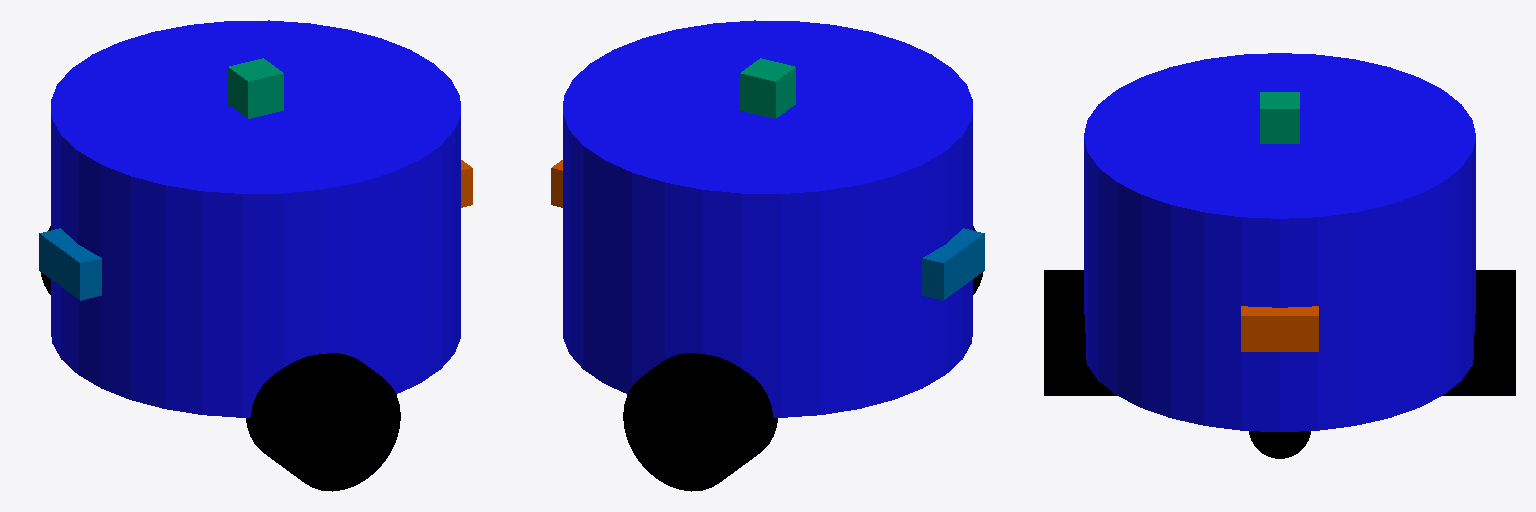
robot.urdf — fishbot:
<?xml version="1.0"?>
<robot name="fishbot">


  <!-- Robot Footprint -->
  <link name="base_footprint"/>

  <joint name="base_joint" type="fixed">
    <parent link="base_footprint"/>
    <child link="base_link"/>
    <origin xyz="-1.4 5.65 0.0" rpy="0 0 0"/>
  </joint>


  <!-- base link -->
  <link name="base_link">
  	<visual>
      <origin xyz="0 0 0.0" rpy="0 0 0"/>
      <geometry>
		<cylinder length="0.12" radius="0.10"/>
      </geometry>
      <material name="blue">
      	<color rgba="0.1 0.1 1.0 0.5" /> 
      </material>
    </visual>
    <collision>
      <origin xyz="0 0 0.0" rpy="0 0 0"/>
      <geometry>
		<cylinder length="0.12" radius="0.10"/>
      </geometry>
      <material name="blue">
      	<color rgba="0.1 0.1 1.0 0.5" /> 
      </material>
    </collision>
    <inertial>
      <mass value="0.2"/>
      <inertia ixx="0.0122666" ixy="0" ixz="0" iyy="0.0122666" iyz="0" izz="0.02"/>
    </inertial>
    <gazebo>
       <gravity>0</gravity>
    </gazebo>
  </link>
    
  <!-- laser link -->
  <!-- <link name="laser_link">
    <visual>
      <origin xyz="0 0 0" rpy="0 0 0"/>
      <geometry>
        <cylinder length="0.02" radius="0.02"/>
      </geometry>
      <material name="black">
        <color rgba="0.0 0.0 0.0 0.5" /> 
      </material>
    </visual>
    <collision>
      <origin xyz="0 0 0" rpy="0 0 0"/>
      <geometry>
        <cylinder length="0.02" radius="0.02"/>
      </geometry>
      <material name="black">
        <color rgba="0.0 0.0 0.0 0.5" /> 
      </material>
    </collision>
    <inertial>
    <mass value="0.1"/>
      <inertia ixx="0.000190416666667" ixy="0" ixz="0" iyy="0.0001904" iyz="0" izz="0.00036"/>
    </inertial>
  </link> -->
  
  <!-- laser joint -->
  <!-- <joint name="laser_joint" type="fixed">
      <parent link="base_link" />
      <child link="laser_link" />
      <origin xyz="0 0 0.075" />
  </joint> -->

  <link name="imu_link">
  	<visual>
      <origin xyz="0 0 0.0" rpy="0 0 0"/>
      <geometry>
		    <box size="0.02 0.02 0.02"/>
      </geometry>
    </visual>
    <collision>
      <origin xyz="0 0 0.0" rpy="0 0 0"/>
      <geometry>
		    <box size="0.02 0.02 0.02"/>
      </geometry>
    </collision>
    <inertial>
      <mass value="0.1"/>
        <inertia ixx="0.000190416666667" ixy="0" ixz="0" iyy="0.0001904" iyz="0" izz="0.00036"/>
      </inertial>
    <gazebo>
       <gravity>0</gravity>
    </gazebo>
  </link>

  <!-- imu joint -->
  <joint name="imu_joint" type="fixed">
      <parent link="base_link" />
      <child link="imu_link" />
      <origin xyz="0 0 0.07" />
  </joint>


  <link name="left_wheel_link">
      <visual>
        <origin xyz="0 0 0" rpy="1.57079 0 0"/>
        <geometry>
          <cylinder length="0.04" radius="0.032"/>
        </geometry>
          <material name="black">
            <color rgba="0.0 0.0 0.0 0.5" /> 
          </material>
      </visual>
      <collision>
        <origin xyz="0 0 0" rpy="1.57079 0 0"/>
        <geometry>
          <cylinder length="0.04" radius="0.032"/>
        </geometry>
          <material name="black">
            <color rgba="0.0 0.0 0.0 0.5" /> 
          </material>
      </collision>
      <inertial>
        <mass value="0.2"/>
          <inertia ixx="0.000190416666667" ixy="0" ixz="0" iyy="0.0001904" iyz="0" izz="0.00036"/>
      </inertial>
      <gazebo>
       <gravity>0</gravity>
      </gazebo>
  </link>

  <link name="camera_link">
  	<visual>
      <origin xyz="0 0 0.0" rpy="0 0 0"/>
      <geometry>
		    <box size="0.02 0.04 0.02"/>
      </geometry>
    </visual>
    <collision>
      <origin xyz="0 0 0.0" rpy="0 0 0"/>
      <geometry>
		    <box size="0.02 0.04 0.02"/>
      </geometry>
    </collision>
    <inertial>
      <mass value="0.1"/>
        <inertia ixx="0.000190416666667" ixy="0" ixz="0" iyy="0.0001904" iyz="0" izz="0.00036"/>
    </inertial>
    <gazebo>
       <gravity>0</gravity>
    </gazebo>
  </link>

  <!-- imu joint -->
  <joint name="camera_joint" type="fixed">
      <parent link="base_link" />
      <child link="camera_link" />
      <origin xyz="-0.10 0 0" rpy="0 0 3.14159"/>
  </joint>

  <link name="camera_depth_link">
  	<visual>
      <origin xyz="0 0 0.0" rpy="0 0 0"/>
      <geometry>
		    <box size="0.02 0.04 0.02"/>
      </geometry>
    </visual>
    <collision>
      <origin xyz="0 0 0.0" rpy="0 0 0"/>
      <geometry>
		    <box size="0.02 0.04 0.02"/>
      </geometry>
    </collision>
    <inertial>
      <mass value="0.1"/>
        <inertia ixx="0.000190416666667" ixy="0" ixz="0" iyy="0.0001904" iyz="0" izz="0.00036"/>
    </inertial>
    <gazebo>
       <gravity>0</gravity>
    </gazebo>
  </link>

  <joint name="camera_depth_joint" type="fixed">
      <parent link="base_link" />
      <child link="camera_depth_link" />
      <origin xyz="0.10 0 0" rpy="0 0 0"/>
  </joint>
    
  <link name="right_wheel_link">
      <visual>
        <origin xyz="0 0 0" rpy="1.57079 0 0"/>
        <geometry>
          <cylinder length="0.04" radius="0.032"/>
        </geometry>
          <material name="black">
            <color rgba="0.0 0.0 0.0 0.5" /> 
          </material>
      </visual>
      <collision>
        <origin xyz="0 0 0" rpy="1.57079 0 0"/>
        <geometry>
          <cylinder length="0.04" radius="0.032"/>
        </geometry>
          <material name="black">
            <color rgba="0.0 0.0 0.0 0.5" /> 
          </material>
      </collision>
      <inertial>
      <mass value="0.2"/>
      <inertia ixx="0.000190416666667" ixy="0" ixz="0" iyy="0.0001904" iyz="0" izz="0.00036"/>
     </inertial>
     <gazebo>
       <gravity>0</gravity>
     </gazebo>
  </link>
    
  <joint name="left_wheel_joint" type="continuous">
      <parent link="base_link" />
      <child link="left_wheel_link" />
      <origin xyz="-0.02 0.10 -0.06" />
      <axis xyz="0 1 0" />
  </joint>

  <joint name="right_wheel_joint" type="continuous">
      <parent link="base_link" />
      <child link="right_wheel_link" />
      <origin xyz="-0.02 -0.10 -0.06" />
      <axis xyz="0 1 0" />
  </joint>

  <link name="caster_link">
      <visual>
        <origin xyz="0 0 0" rpy="1.57079 0 0"/>
        <geometry>
            <sphere radius="0.016"/>
        </geometry>
          <material name="black">
            <color rgba="0.0 0.0 0.0 0.5" /> 
          </material>
      </visual>
      <collision>
        <origin xyz="0 0 0" rpy="1.57079 0 0"/>
        <geometry>
            <sphere radius="0.016"/>
        </geometry>
          <material name="black">
            <color rgba="0.0 0.0 0.0 0.5" /> 
          </material>
      </collision>
      <inertial>
      <mass value="0.02"/>
      <inertia ixx="0.000190416666667" ixy="0" ixz="0" iyy="0.0001904" iyz="0" izz="0.00036"/>
    </inertial>
    <gazebo>
       <gravity>0</gravity>
    </gazebo>
  </link>
    
  <joint name="caster_joint" type="fixed">
      <parent link="base_link" />
      <child link="caster_link" />
      <origin xyz="0.06 0.0 -0.076" />
      <axis xyz="0 1 0" />
  </joint>



    <gazebo reference="caster_link">
      <material>Gazebo/Black</material>
    </gazebo>
    <gazebo reference="base_link">
      <material>Gazebo/Yellow</material>
    </gazebo>
    <gazebo reference="left_wheel_link">
      <material>Gazebo/Red</material>
    </gazebo>
    <gazebo reference="right_wheel_link">
      <material>Gazebo/Red</material>
    </gazebo>

    <gazebo reference="caster_link">
      <mu1 value="0.0"/>
      <mu2 value="0.0"/>
      <kp value="1000000.0" />
      <kd value="10.0" />
      <!-- <fdir1 value="0 0 1"/> -->
    </gazebo>


    <!-- 下面的是二轮差速底盘的代码 -->
    
    <!-- <gazebo>
      <plugin name='diff_drive' filename='libgazebo_ros_diff_drive.so'>
          <ros>
            <namespace>/</namespace>
            <remapping>cmd_vel:=cmd_vel</remapping>
            <remapping>odom:=odom</remapping>
          </ros>
          <update_rate>30</update_rate>
          
          <left_joint>left_wheel_joint</left_joint>
          <right_joint>right_wheel_joint</right_joint>
          
          <wheel_separation>0.2</wheel_separation>
          <wheel_diameter>0.065</wheel_diameter>
          
          <max_wheel_torque>20</max_wheel_torque>
          <max_wheel_acceleration>1.0</max_wheel_acceleration>
          
          <publish_odom>true</publish_odom>
          <publish_odom_tf>true</publish_odom_tf>
          <publish_wheel_tf>true</publish_wheel_tf>
          <odometry_frame>odom</odometry_frame>
          <robot_base_frame>base_footprint</robot_base_frame>
      </plugin>
    </gazebo>  -->
  

    <gazebo>
      <plugin name="planar_move" filename="libcmd_vel_z_plugin.so">
        <ros>
          <namespace>/</namespace>
          <remapping>cmd_vel:=cmd_vel</remapping>
          <remapping>odom:=odom</remapping>
        </ros>
        <update_rate>100.0</update_rate>
        <odometry_frame>odom</odometry_frame>
        <robot_base_frame>base_footprint</robot_base_frame>
        <publish_odom>true</publish_odom>
        <publish_odom_tf>true</publish_odom_tf>
      </plugin>
    </gazebo>

    <!-- <gazebo>
      <plugin name="cmd_vel_z_plugin" filename="libcmd_vel_z_plugin.so">
        <ros>
          <namespace>/</namespace>
          <remapping>cmd_vel:=/cmd_vel</remapping>
        </ros>
      </plugin>
    </gazebo> -->

    <gazebo>
      <plugin name="fishbot_joint_state" filename="libgazebo_ros_joint_state_publisher.so">
        <ros>
          <remapping>~/out:=joint_states</remapping>
        </ros>
        <update_rate>30</update_rate>
        <joint_name>right_wheel_joint</joint_name>
        <joint_name>left_wheel_joint</joint_name>
      </plugin>    
    </gazebo> 

    <gazebo reference="laser_link">
      <material>Gazebo/Black</material>
    </gazebo>

    <gazebo reference="imu_link">
      <sensor name="imu_sensor" type="imu">
      <plugin filename="libgazebo_ros_imu_sensor.so" name="imu_plugin">
          <ros>
            <namespace>/</namespace>
            <remapping>~/out:=imu</remapping>
          </ros>
          <initial_orientation_as_reference>false</initial_orientation_as_reference>
        </plugin>
        <always_on>true</always_on>
        <update_rate>100</update_rate>
        <visualize>true</visualize>
        <imu>
          <angular_velocity>
            <x>
              <noise type="gaussian">
                <mean>0.0</mean>
                <stddev>2e-4</stddev>
                <bias_mean>0.0000075</bias_mean>
                <bias_stddev>0.0000008</bias_stddev>
              </noise>
            </x>
            <y>
              <noise type="gaussian">
                <mean>0.0</mean>
                <stddev>2e-4</stddev>
                <bias_mean>0.0000075</bias_mean>
                <bias_stddev>0.0000008</bias_stddev>
              </noise>
            </y>
            <z>
              <noise type="gaussian">
                <mean>0.0</mean>
                <stddev>2e-4</stddev>
                <bias_mean>0.0000075</bias_mean>
                <bias_stddev>0.0000008</bias_stddev>
              </noise>
            </z>
          </angular_velocity>
          <linear_acceleration>
            <x>
              <noise type="gaussian">
                <mean>0.0</mean>
                <stddev>1.7e-2</stddev>
                <bias_mean>0.1</bias_mean>
                <bias_stddev>0.001</bias_stddev>
              </noise>
            </x>
            <y>
              <noise type="gaussian">
                <mean>0.0</mean>
                <stddev>1.7e-2</stddev>
                <bias_mean>0.1</bias_mean>
                <bias_stddev>0.001</bias_stddev>
              </noise>
            </y>
            <z>
              <noise type="gaussian">
                <mean>0.0</mean>
                <stddev>1.7e-2</stddev>
                <bias_mean>0.1</bias_mean>
                <bias_stddev>0.001</bias_stddev>
              </noise>
            </z>
          </linear_acceleration>
        </imu>
      </sensor>
    </gazebo>


    <!-- 二维雷达 -->
    <!-- <gazebo reference="laser_link">
      <sensor name="laser_sensor" type="ray">
      <always_on>true</always_on>
      <visualize>true</visualize>
      <update_rate>5</update_rate>
      <pose>0 0 0.075 0 0 0</pose>
      <ray>
          <scan>
            <horizontal>
              <samples>360</samples>
              <resolution>1.000000</resolution>
              <min_angle>0.000000</min_angle>
              <max_angle>6.280000</max_angle>
            </horizontal>
          </scan>
          <range>
            <min>0.120000</min>
            <max>3.5</max>
            <resolution>0.015000</resolution>
          </range>
          <noise>
            <type>gaussian</type>
            <mean>0.0</mean>
            <stddev>0.01</stddev>
          </noise>
      </ray>

      <plugin name="laserscan" filename="libgazebo_ros_ray_sensor.so">
        <ros>
          <remapping>~/out:=scan</remapping>
        </ros>
        <output_type>sensor_msgs/LaserScan</output_type>
        <frame_name>laser_link</frame_name>
      </plugin>
      </sensor>
    </gazebo> -->

    <gazebo reference="laser_link">
     <!-- Visuals / Collisions omitted for this example -->
      <sensor type="ray" name="3d_laser_sensor">
        <!-- <visualize>true</visualize> -->
        <ray>
          <scan>
            <horizontal>
              <samples>1440</samples>
              <resolution>1</resolution>
              <!-- 下面是修改水平扫描范围，单位是弧度 -->
              <min_angle>-3.14159</min_angle>
              <max_angle>3.14159</max_angle>
            </horizontal>
            <vertical>
              <samples>80</samples>
                <resolution>1</resolution>
                <min_angle>-0.122173</min_angle> <!-- -7° -->
                <max_angle>0.907571</max_angle>  <!-- 52° -->
            </vertical>
          </scan>
          <range>
            <min>0.05</min>
            <max>10.0</max>
            <resolution>0.01</resolution>
          </range>
          <!-- Using gazebo's noise instead of plugin's -->
          <noise>
            <type>gaussian</type>
            <mean>0.0</mean>
            <stddev>0.01</stddev>
          </noise>
        </ray>
        <!-- Using gazebo's update rate instead of plugin's -->
        <update_rate>30</update_rate>
        <plugin name="gazebo_ros_block_laser_controller" filename="libgazebo_ros_ray_sensor.so">
          <!-- Change namespace and output topic so published topic is /rrbot/laser/pointcloud -->
          <ros>
            <namespace>/rrbot/laser</namespace>
            <remapping>~/out:=pointcloud</remapping>
          </ros>
          <!-- Set output to sensor_msgs/PointCloud to get same output type as gazebo_ros_block_laser -->
          <output_type>sensor_msgs/PointCloud</output_type>
          <!-- <frame_name> ommited, will default to block_laser_link --><!-- min_intensity instead of hokuyoMinIntensity -->
          <min_intensity>100.0</min_intensity>
          <frame_name>laser_link</frame_name>
        </plugin>
      </sensor>
    </gazebo>

    <gazebo reference="camera_link">
      <sensor name="camera_sensor" type="camera">
      <always_on>true</always_on>
      <!-- <visualize>true</visualize> -->
       <update_rate>30.0</update_rate>
      <camera name="head">
        <!--匹配物理相机硬件上制造商提供的规格数据-->
        <horizontal_fov>1.3962634</horizontal_fov>
        <image>
          <width>800</width>
          <height>800</height>
          <format>R8G8B8</format>
        </image>
        <clip>
          <near>0.02</near>
          <far>300</far>
        </clip>
        <noise>
          <type>gaussian</type>
          <!-- Noise is sampled independently per pixel on each frame.
               That pixel's noise value is added to each of its color
               channels, which at that point lie in the range [0,1]. -->
          <mean>0.0</mean>
          <stddev>0.007</stddev>
        </noise>
      </camera>

     <plugin name="camera_plugin" filename="libgazebo_ros_camera.so">
      <ros>
        <!-- 命名空间设置 -->
        <namespace>/camera</namespace>
        <!-- 图像话题重映射 -->
        <remapping>image_raw:=image</remapping>
      </ros>
      <camera_name>camera</camera_name>
      <frame_name>camera_link</frame_name>
      <hack_baseline>0.07</hack_baseline>
      <always_on>true</always_on>
     </plugin>
     </sensor>
    </gazebo>

    <gazebo reference="camera_depth_link">
      <sensor type="depth" name="camera_sensor">
        <plugin name="depth_camera" filename="libgazebo_ros_camera.so">
            <ros>
              <namespace>depth_camera</namespace>
            </ros>

            <!-- Set camera name. If empty, defaults to sensor name (i.e. "sensor_name") -->
            <camera_name>depth_camera</camera_name>

            <!-- Set TF frame name. If empty, defaults to link name (i.e. "link_name") -->
            <frame_name>camera_depth_link</frame_name>

            <hack_baseline>0.07</hack_baseline>

            <!-- No need to repeat distortion parameters or to set autoDistortion -->

            <min_depth>0.05</min_depth>
            <max_depth>8.0</max_depth>
        </plugin>
        <visualize>true</visualize>
        <always_on>true</always_on>
        <update_rate>10</update_rate>
        <camera name="depth_camera">
          <distortion>
            <k1>0.0</k1>
            <k2>0.0</k2>
            <k3>0.0</k3>
            <p1>0.0</p1>
            <p2>0.0</p2>
            <!-- <k1>0.1</k1>
            <k2>0.2</k2>
            <k3>0.3</k3>
            <p1>0.4</p1>
            <p2>0.5</p2> -->
            <center>0.5 0.5</center>
          </distortion>
          </camera>
      </sensor>
    </gazebo>

    <!-- <gazebo>
      <plugin name="my_hello_plugin" filename="libhello_plugin.so">
        <message>Hello from URDF!</message>
        <update_rate>10.0</update_rate>
      </plugin>
    </gazebo> -->

    <link name="livox_frame">
        <visual>
        <origin rpy="1.5707963267948966 0 3.141592653589793" xyz="0.025 -0.0265 -0.025"/>
        <geometry>
            <mesh filename="model://mid360.STL" scale="0.0008 0.0008 0.0008"/>
        </geometry>
        </visual>
        <gazebo>
         <gravity>0</gravity>
       </gazebo>
    </link>
        <joint name="livox_frame_joint" type="fixed">
        <parent link="base_link"/>
        <child link="livox_frame"/>
        <origin rpy="0 0 0" xyz="0.0 0.0 0.085"/>
    </joint>
    <gazebo reference="livox_frame">
        <sensor name="livox_frame" type="ray">
            <pose>0 0 0 0 0 0</pose>
            <visualize>true</visualize>
            <update_rate>10</update_rate>
            <plugin filename="libros2_livox.so" name="livox_frame_plugin">
                <ray>
                <scan>
                    <horizontal>
                    <samples>100</samples>
                    <resolution>1</resolution>
                    <min_angle>0</min_angle>
                    <max_angle>6.2831852</max_angle>
                    </horizontal>
                    <vertical>
                    <samples>360</samples>
                    <resolution>1</resolution>
                    <min_angle>-0.12601276984444446</min_angle>
                    <max_angle>0.9637707965111111</max_angle>
                    </vertical>
                </scan>
                <range>
                    <min>0.1</min>
                    <max>200.0</max>
                    <resolution>0.002</resolution>
                </range>
                <noise>
                    <type>gaussian</type>
                    <mean>0.0</mean>
                    <stddev>0.002</stddev>
                </noise>
                </ray>
                <visualize>false</visualize>
                <samples>30000</samples>
                <downsample>1</downsample>
                <csv_file_name>/home/xzx/ros2/pangolin_gazebo_2026/install/ros2_livox_simulation/share/ros2_livox_simulation/scan_mode/mid360.csv</csv_file_name>
                <topic>/livox/lidar</topic>
            </plugin>
        </sensor>
    </gazebo>

    <gazebo reference="livox_frame">
      <material>Gazebo/LightBlueLaser</material>
    </gazebo>
</robot>

--- Render facts (derived) ---
Views: 3 orthographic renders of the robot side by side, from view 1: azimuth 30°, elevation 25°; view 2: azimuth 150°, elevation 25°; view 3: azimuth 270°, elevation 25°.
Model fishbot with 9 links and 8 joints (2 continuous, 6 fixed), rooted at base_footprint, posed every joint at zero.
Visible links, largest first — view 1: base_link, right_wheel_link, camera_link, imu_link; view 2: base_link, left_wheel_link, camera_link, imu_link; view 3: base_link, left_wheel_link, right_wheel_link, camera_depth_link, imu_link, caster_link.
Link boxes in pixels (left/top/right/bottom): base_link: left=51, top=20, right=460, bottom=417; right_wheel_link: left=246, top=353, right=400, bottom=491; camera_link: left=39, top=228, right=101, bottom=300; imu_link: left=228, top=58, right=283, bottom=118; base_link: left=563, top=20, right=972, bottom=417; left_wheel_link: left=623, top=353, right=777, bottom=491; camera_link: left=922, top=228, right=984, bottom=300; imu_link: left=740, top=58, right=795, bottom=118; base_link: left=1084, top=53, right=1475, bottom=431; left_wheel_link: left=1443, top=270, right=1515, bottom=395; right_wheel_link: left=1044, top=270, right=1116, bottom=395; camera_depth_link: left=1241, top=306, right=1318, bottom=351; imu_link: left=1260, top=92, right=1299, bottom=143; caster_link: left=1249, top=431, right=1310, bottom=458.
Size in the robot's own frame: 0.22 by 0.24 by 0.172 metres.
Geometry: only primitive shapes (box / cylinder / sphere) drawn; not drawn: 1 mesh visual (reference in a form the renderer does not follow).
